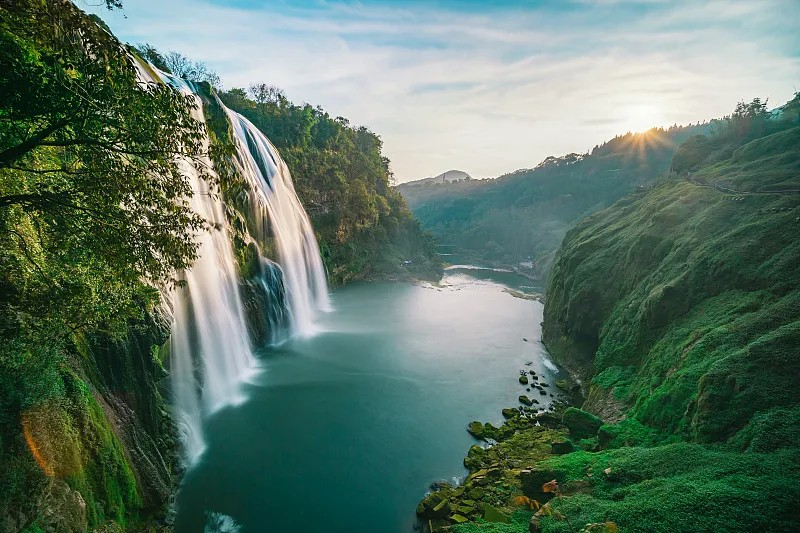Huangguoshu: (130, 50, 332, 468)
